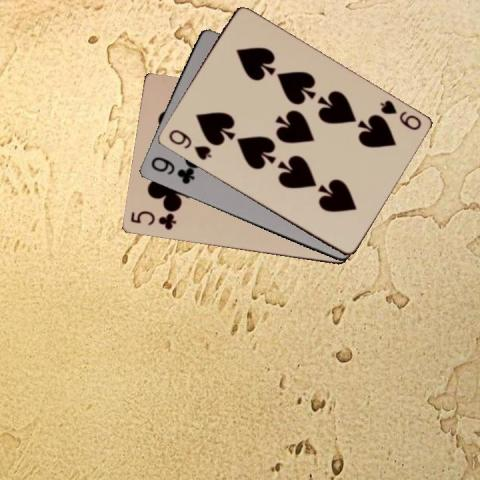5c: (128, 209, 177, 232)
9c: (147, 154, 196, 186)
9s: (164, 126, 212, 162), (376, 97, 422, 132)
